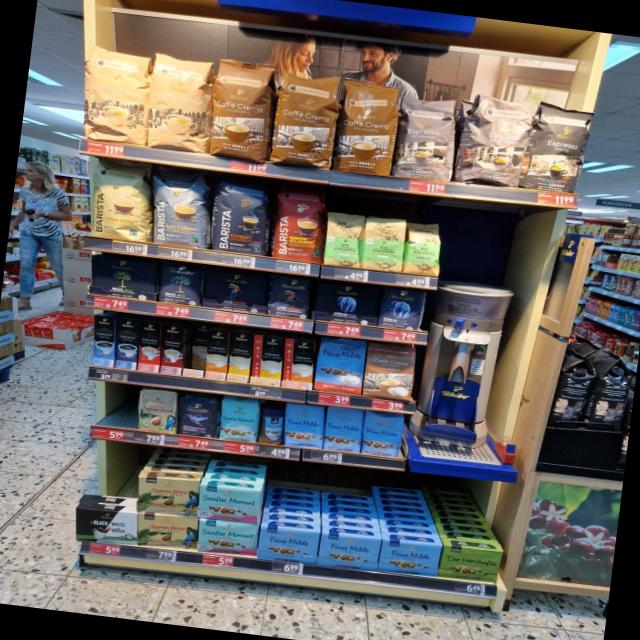AB Bohne: (376, 286, 429, 332)
AB Gemahlen: (311, 279, 382, 326)
Athiopien Bohne: (402, 220, 443, 277)
Athiopien Gemahlen: (361, 215, 409, 274), (321, 212, 364, 270)
BM Bohne: (158, 259, 205, 305)
BM Gemahlen: (89, 253, 162, 302)
BW Gemahlen: (74, 507, 138, 545)
Barista CB: (87, 158, 157, 244)
Barista CC: (149, 171, 215, 250)
Barista Espresso: (208, 179, 277, 258)
Barista Kolumbien: (268, 186, 329, 264)
C Fino Bohne: (175, 391, 222, 439)
CC Mild: (79, 45, 155, 147), (146, 51, 218, 154)
CC Vollmundig: (360, 341, 420, 402)
CC Vollmundig 36 Pads: (265, 65, 345, 172), (207, 56, 282, 165), (331, 76, 405, 177)
Colombia BB Bohne: (133, 386, 179, 434)
Colombia BB Gemahlen: (135, 476, 201, 517), (136, 512, 200, 549)
Empty Shelf: (91, 382, 139, 429)
Espresso Aromatisch: (453, 90, 535, 191), (390, 93, 459, 184)
Espresso Kraftig: (515, 98, 600, 194)
FM 36 Pads: (312, 335, 369, 396)
FM Bohne: (359, 410, 410, 458), (281, 402, 327, 449), (322, 406, 367, 454)
FM Gemahlen: (317, 531, 383, 571), (377, 539, 444, 577), (256, 526, 321, 564)
FM Instant: (256, 409, 285, 445)
Herzhatfe Mundig: (438, 544, 505, 584)
LG Bohne: (266, 273, 316, 319)
LG Gemahlen: (200, 263, 270, 313)
SM Bohne: (218, 398, 261, 443)
SM Gemahlen: (198, 483, 262, 523), (196, 518, 260, 555)
Simo CCMild: (250, 333, 286, 387)
Simo CCMild bigpack: (226, 330, 254, 383)
Simo CCVollmundig: (282, 337, 317, 391)
Simo CCVollmundig bigpack: (204, 329, 231, 380)
Simo Es Brazil: (137, 319, 162, 373)
Simo Es Caramel: (160, 321, 188, 373)
Simo Es Kraft: (113, 316, 140, 371)
Simo Es Vanilla: (90, 314, 117, 368)
